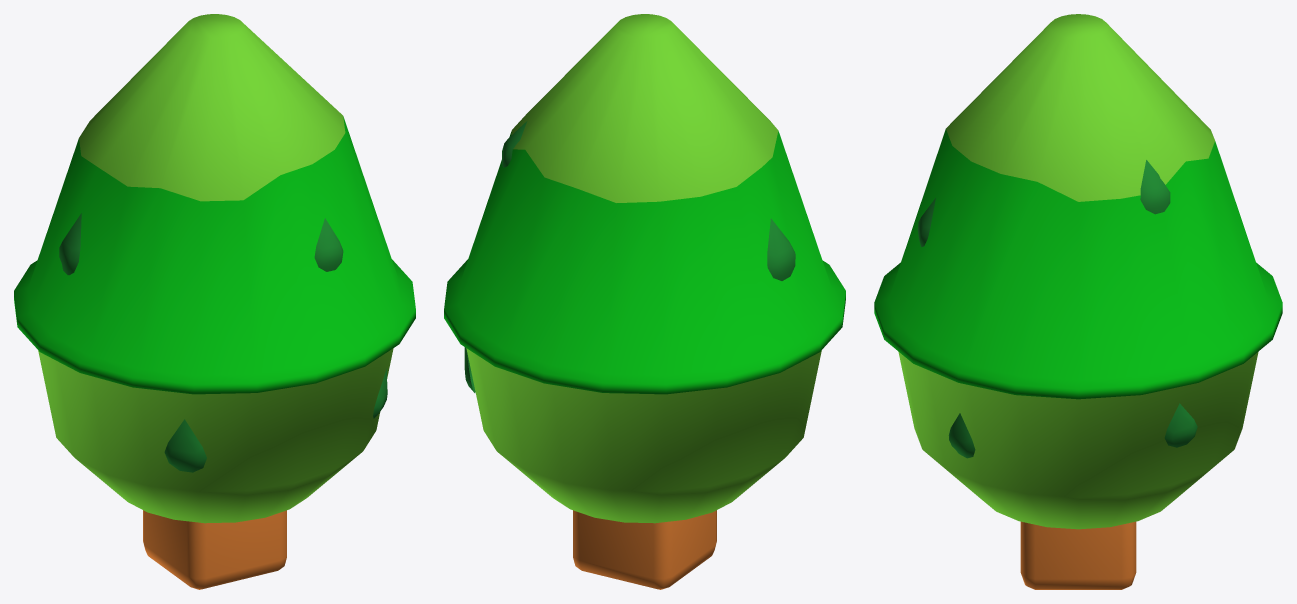
File: tree-2.fbx
3 renders of one model, left to right at view 1: azimuth 30°, elevation 25°; view 2: azimuth 150°, elevation 25°; view 3: azimuth 270°, elevation 25°, orthographic.
Parts seen in each view (by area): view 1: tree-2; view 2: tree-2; view 3: tree-2.
Part boxes in pixels (bbox=[...]): tree-2: bbox=[14, 14, 415, 589]; tree-2: bbox=[444, 14, 845, 589]; tree-2: bbox=[874, 14, 1282, 589].
Bounding box in the file's own units: 1.93 × 2.85 × 1.93.
